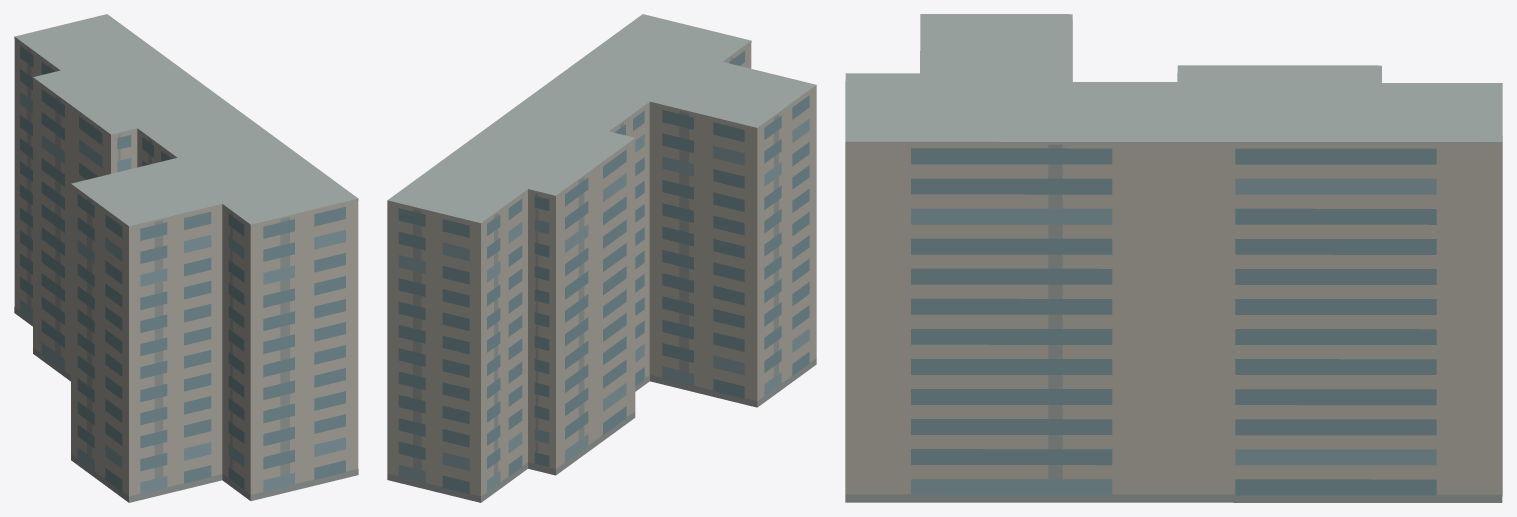
Rendered from residential-4a02dcbc-06f7-4c36-9652-26acfd5bed43.glb.
3 views of the same model, side by side, from view 1: azimuth 30°, elevation 25°; view 2: azimuth 150°, elevation 25°; view 3: azimuth 270°, elevation 25° (orthographic). The views are drawn at different scales.
Parts seen in each view (by area): view 1: residential-4a02dcbc-06f7-4c36-9652-26acfd5bed43.tmp; view 2: residential-4a02dcbc-06f7-4c36-9652-26acfd5bed43.tmp; view 3: residential-4a02dcbc-06f7-4c36-9652-26acfd5bed43.tmp.
Part boxes in pixels (x1,y1,x2,y2): residential-4a02dcbc-06f7-4c36-9652-26acfd5bed43.tmp: (14,14,358,502); residential-4a02dcbc-06f7-4c36-9652-26acfd5bed43.tmp: (387,14,816,502); residential-4a02dcbc-06f7-4c36-9652-26acfd5bed43.tmp: (845,14,1502,502).
Bounding box in the file's own units: 25.14 × 33 × 54.5.
